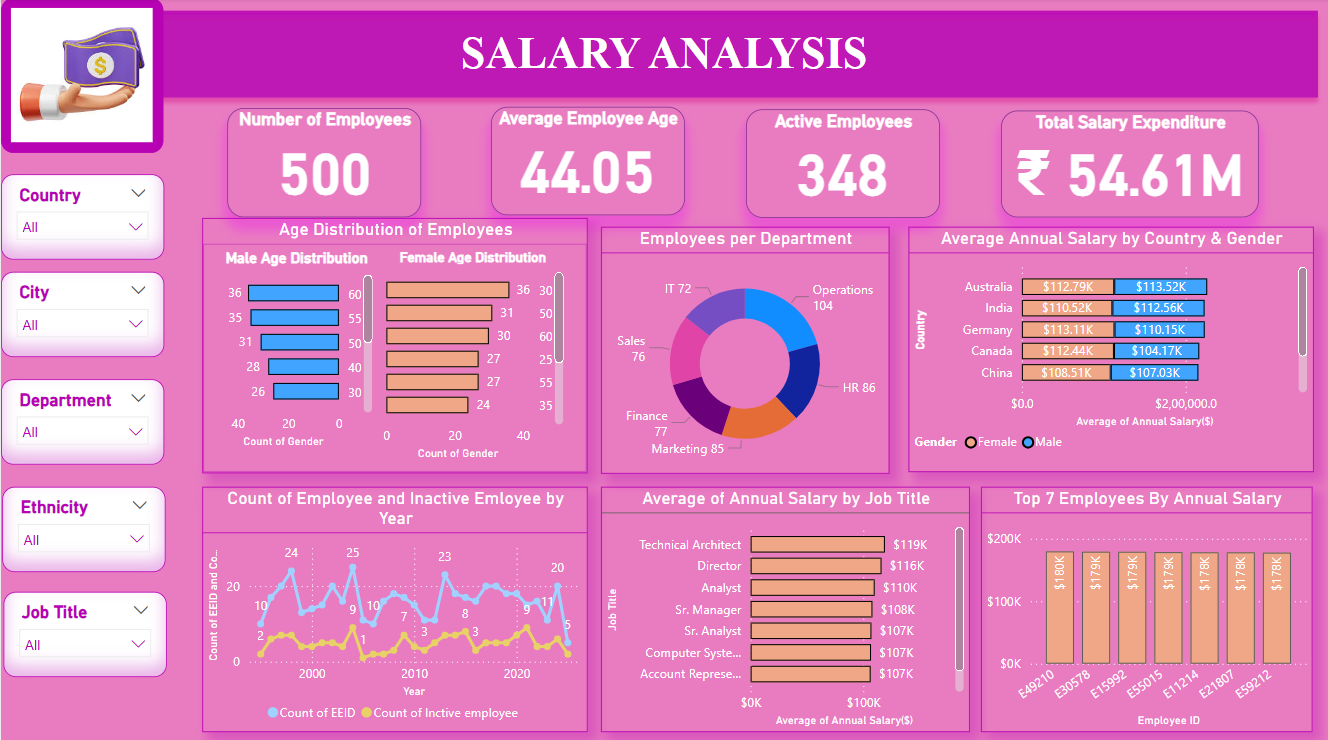

The dashboard page shown, as its layout file describes it:
{"tool":"powerbi","page":{"name":"Page 1","canvas":[1280,720],"ordinal":0},"visuals":[{"type":"shape","box":[0,0,1280,105],"z":0},{"type":"image","box":[0,0,156.8,149.6],"z":1000},{"type":"slicer","fields":{"Values":["employee_data.Country"]},"box":[0,170.2,157.3,82.2],"z":2000},{"type":"slicer","fields":{"Values":["employee_data.City"]},"box":[0,264,157.3,82.2],"z":3000},{"type":"slicer","fields":{"Values":["employee_data.Department"]},"box":[0,367.9,157.3,82.2],"z":4000},{"type":"slicer","fields":{"Values":["employee_data.Ethnicity"]},"box":[1.4,471.8,157.3,82.2],"z":5000},{"type":"slicer","fields":{"Values":["employee_data.Job Title"]},"box":[2.9,572.8,157.3,82.2],"z":6000},{"type":"card","title":"Number of Employees","fields":{"Values":["CountNonNull(employee_data.EEID)"]},"box":[217.9,106.8,187.6,105.3],"z":7000},{"type":"card","title":"Average Employee Age","fields":{"Values":["Avg(employee_data.Age)"]},"box":[473.4,105,186.9,105],"z":8000},{"type":"card","title":"Total Salary Expenditure","fields":{"Values":["Sum(employee_data.Annual Salary($))"]},"box":[964.6,108.6,249.2,103.2],"z":9000},{"type":"card","title":"Active Employees","fields":{"Values":["CountNonNull(employee_data.Employee Status)"]},"box":[719,106.8,186.9,105],"z":10000},{"type":"barChart","title":"Female Age Distribution","fields":{"Y":["CountNonNull(employee_data.Gender)"],"Category":["employee_data.Age (bins)"]},"box":[363.6,242.4,184.7,207.8],"z":11000},{"type":"barChart","title":"Male Age Distribution","fields":{"Y":["CountNonNull(employee_data.Gender)"],"Category":["employee_data.Age (bins)"]},"box":[207.8,242.4,155.8,196.2],"z":12000},{"type":"shape","title":"Age Distribution of Employees","box":[194.8,212.1,372.2,246.7],"z":13000},{"type":"donutChart","title":"Employees per Department","fields":{"Category":["employee_data.Department"],"Y":["CountNonNull(employee_data.EEID)"]},"box":[578.5,220.7,278.5,238.1],"z":13001},{"type":"barChart","title":" Average Annual Salary by Country & Gender","fields":{"Category":["employee_data.Country"],"Y":["Avg(employee_data.Annual Salary($))"],"Series":["employee_data.Gender"]},"box":[875.8,220.7,391,236.6],"z":13002},{"type":"lineChart","title":"Count of Employee and Inactive Emloyee by Year","fields":{"Category":["employee_data.Hire Date.Variation.Date Hierarchy.Year","employee_data.Hire Date.Variation.Date Hierarchy.Quarter","employee_data.Hire Date.Variation.Date Hierarchy.Month","employee_data.Hire Date.Variation.Date Hierarchy.Day"],"Y":["CountNonNull(employee_data.EEID)","CountNonNull(employee_data.Inctive employee)"]},"box":[194.8,471.8,372.2,236.6],"z":13003},{"type":"barChart","title":"Average of Annual Salary by Job Title","fields":{"Category":["employee_data.Job Title"],"Y":["Avg(employee_data.Annual Salary($))"]},"box":[578.5,471.8,356.4,236.6],"z":13004},{"type":"clusteredColumnChart","title":"Top 7 Employees By Annual Salary","fields":{"Y":["Avg(employee_data.Annual Salary($))"],"Category":["employee_data.EEID"]},"box":[946.5,471.8,320.3,236.6],"z":13005}]}

Visuals, with their boxes in screenshot pixels (x1, y1, x2, y2), scaled from the page's 1280x720 canvas onto the 1328x740 screenshot:
shape: l=0, t=0, r=1327, b=108
image: l=0, t=0, r=163, b=154
slicer - employee_data.Country: l=0, t=175, r=163, b=259
slicer - employee_data.City: l=0, t=271, r=163, b=356
slicer - employee_data.Department: l=0, t=378, r=163, b=463
slicer - employee_data.Ethnicity: l=1, t=485, r=165, b=569
slicer - employee_data.Job Title: l=3, t=589, r=166, b=673
"Number of Employees" card: l=226, t=110, r=421, b=218
"Average Employee Age" card: l=491, t=108, r=685, b=216
"Total Salary Expenditure" card: l=1001, t=112, r=1259, b=218
"Active Employees" card: l=746, t=110, r=940, b=218
"Female Age Distribution" barChart: l=377, t=249, r=569, b=463
"Male Age Distribution" barChart: l=216, t=249, r=377, b=451
"Age Distribution of Employees" shape: l=202, t=218, r=588, b=472
"Employees per Department" donutChart: l=600, t=227, r=889, b=472
" Average Annual Salary by Country & Gender" barChart: l=909, t=227, r=1314, b=470
"Count of Employee and Inactive Emloyee by Year" lineChart: l=202, t=485, r=588, b=728
"Average of Annual Salary by Job Title" barChart: l=600, t=485, r=970, b=728
"Top 7 Employees By Annual Salary" clusteredColumnChart: l=982, t=485, r=1314, b=728
